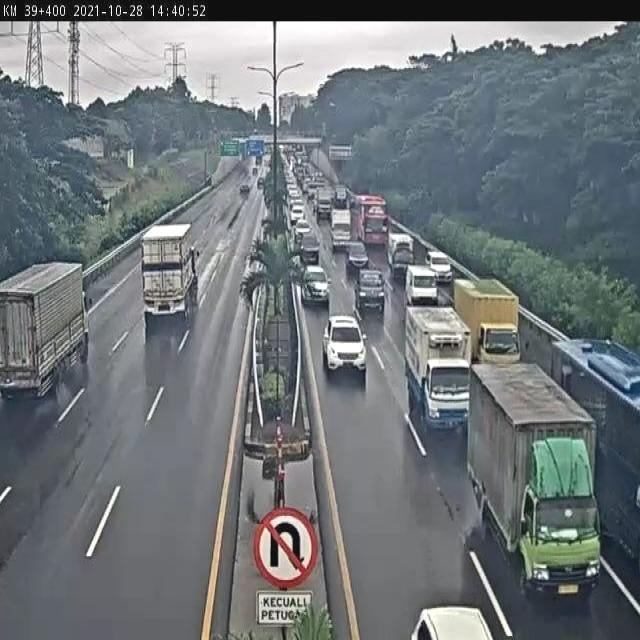Bus: (358, 196, 388, 256), (351, 195, 368, 238), (316, 192, 332, 219), (370, 197, 388, 218), (334, 185, 347, 204)
Car: (410, 604, 500, 638), (328, 316, 363, 378), (405, 265, 437, 307), (300, 269, 330, 307), (356, 275, 385, 314), (428, 251, 452, 285), (348, 244, 368, 276), (300, 234, 320, 264), (294, 218, 311, 245), (289, 203, 303, 225), (240, 183, 250, 193)
Truck: (476, 391, 594, 576), (1, 262, 91, 398), (404, 305, 472, 435), (453, 280, 518, 366), (141, 240, 192, 324), (385, 232, 414, 281), (330, 207, 352, 250)
